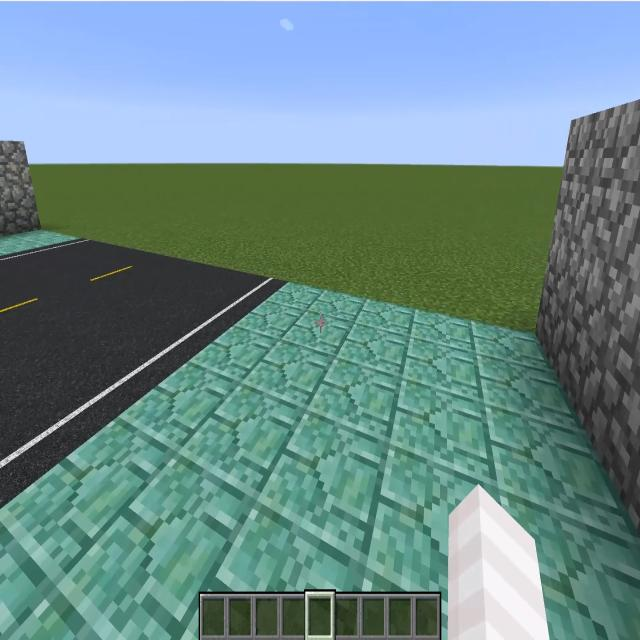road: (0, 240, 283, 506)
sidewalk: (0, 283, 640, 639), (0, 230, 79, 257)
